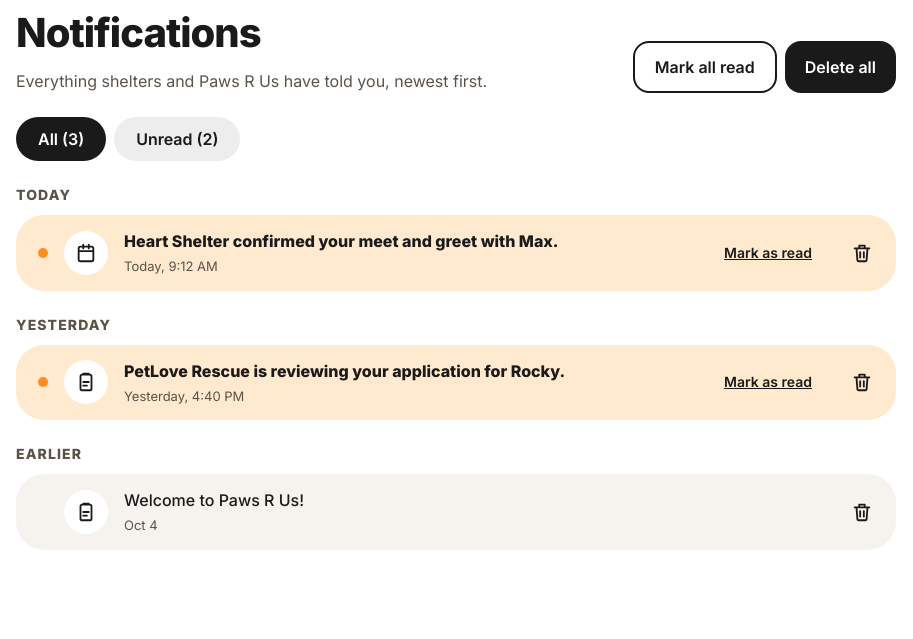
Test: Notifications page › shows why an action failed
Step 1. Click the button named "Delete notification: Heart Shelter confirmed your meet and g" → (862, 253), box [840,231,884,275]
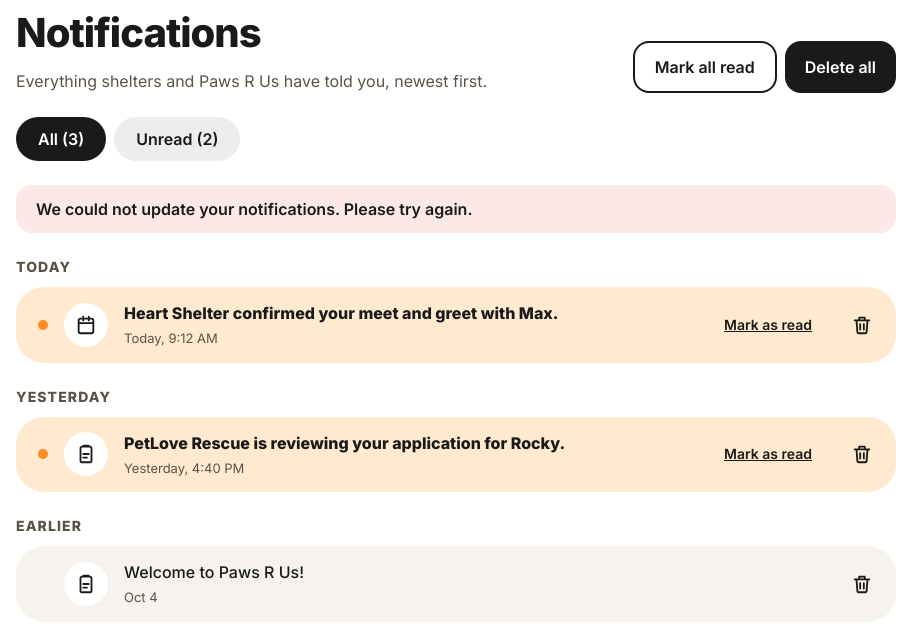
Result: the message reads "We could not update your notifications. Please try again." at [36,199,472,219]
